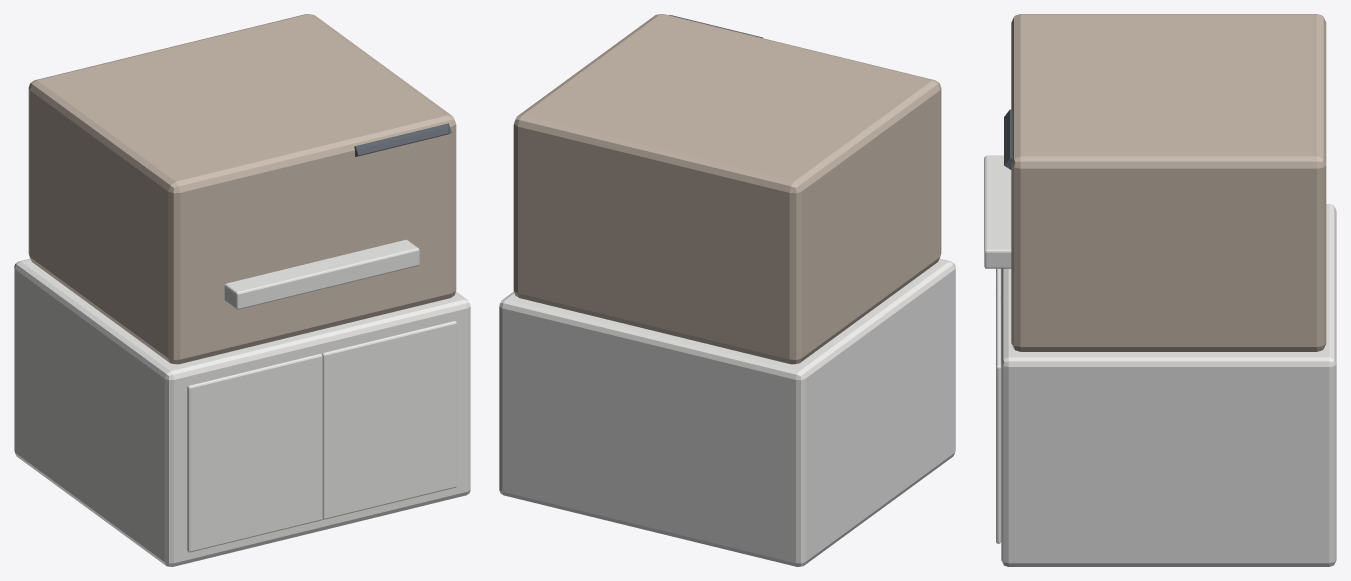
File: print___utility_office_asset_library_36.glb
3 views of the same model, side by side, from view 1: azimuth 30°, elevation 25°; view 2: azimuth 150°, elevation 25°; view 3: azimuth 270°, elevation 25° (orthographic). The views are drawn at different scales.
Visible parts, largest first — view 1: Cube; view 2: Cube; view 3: Cube.
Part boxes in pixels (left/top/right/bottom): Cube: left=14, top=14, right=470, bottom=566; Cube: left=499, top=14, right=955, bottom=566; Cube: left=984, top=14, right=1336, bottom=566.
Bounding box in the file's own units: 0.72 × 0.8526 × 0.672.
